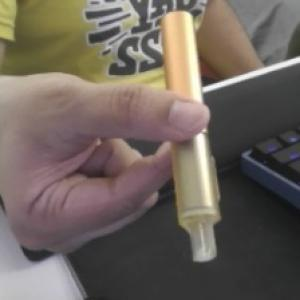Golden-E-Ciggirate: (158, 10, 223, 264)
